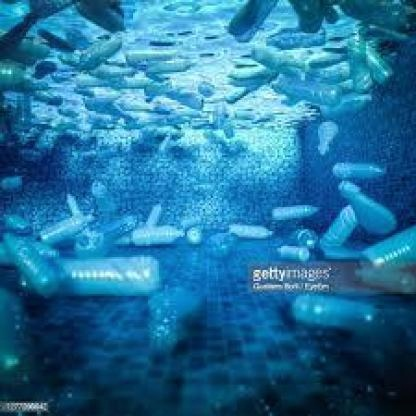pbottle: (52, 250, 185, 305), (281, 286, 394, 336), (144, 283, 213, 349), (338, 180, 405, 240), (2, 290, 35, 396), (340, 33, 394, 89), (5, 233, 50, 299), (349, 262, 416, 298), (360, 225, 416, 268), (129, 207, 185, 250), (33, 206, 100, 240), (270, 70, 331, 104), (307, 115, 351, 157), (322, 209, 358, 259), (227, 2, 270, 41), (214, 214, 276, 240), (270, 26, 327, 54), (342, 2, 416, 22), (316, 88, 372, 114), (329, 161, 394, 183), (5, 30, 50, 59), (72, 31, 120, 58), (252, 43, 298, 70), (270, 198, 331, 218), (2, 61, 39, 91), (113, 94, 159, 116), (227, 65, 272, 87), (148, 57, 198, 76), (296, 2, 331, 28), (128, 44, 183, 60), (70, 70, 120, 87), (275, 238, 307, 264), (92, 57, 137, 74), (116, 70, 156, 89), (81, 94, 116, 113), (185, 220, 207, 246), (30, 87, 61, 105), (172, 87, 201, 105), (7, 212, 28, 235), (298, 220, 316, 246)
